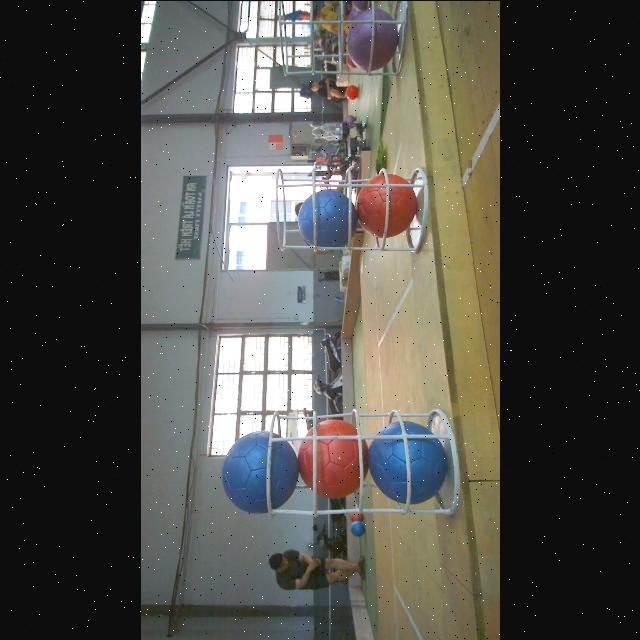B: (218, 430, 294, 514), (366, 423, 444, 503), (296, 188, 354, 250)
R: (296, 419, 368, 496), (354, 174, 418, 238)
